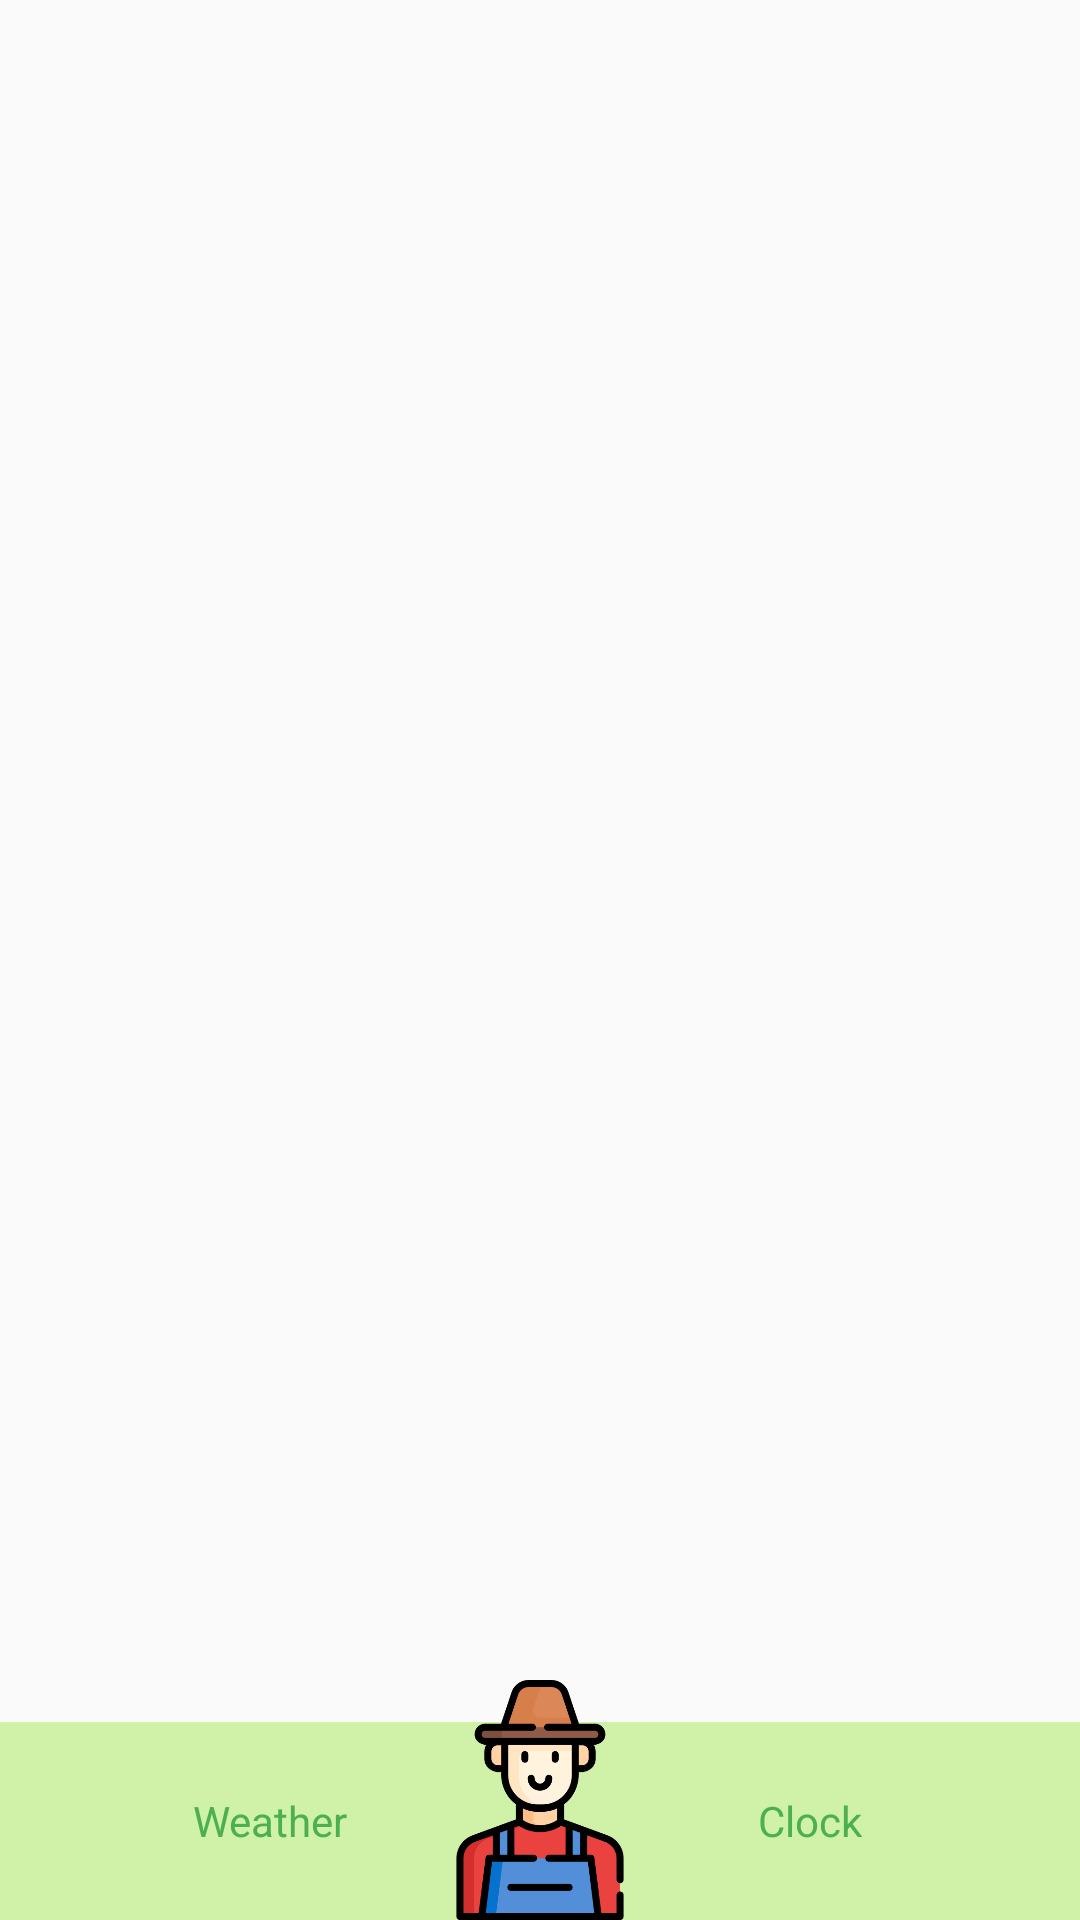

Icon click points for this 1080x1920 phone screenshot, format (x,y):
farmer: (540,1800)
